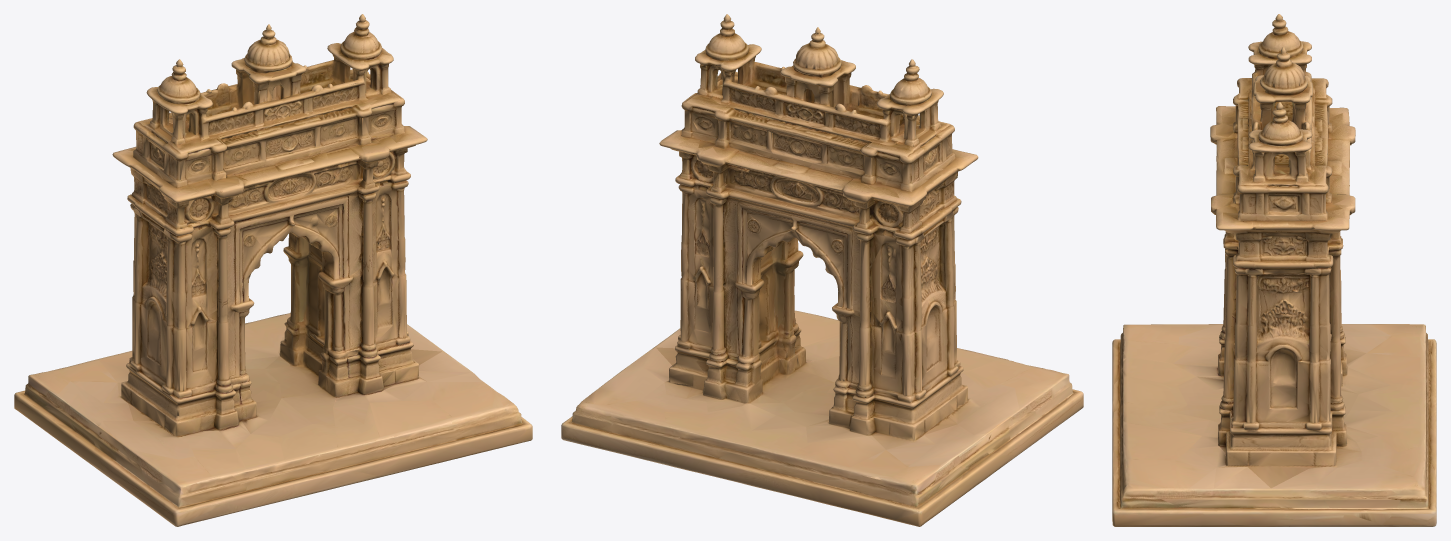
Rendered from Ornate_Sandstone_Gate.glb.
3 views of the same model, side by side, from view 1: azimuth 30°, elevation 25°; view 2: azimuth 150°, elevation 25°; view 3: azimuth 270°, elevation 25° (orthographic).
Visible parts, largest first — view 1: Ornate_Sandstone_Gate; view 2: Ornate_Sandstone_Gate; view 3: Ornate_Sandstone_Gate.
Boxes of the visible parts, left/top/right/bottom form: Ornate_Sandstone_Gate: left=14, top=14, right=532, bottom=526; Ornate_Sandstone_Gate: left=561, top=14, right=1083, bottom=526; Ornate_Sandstone_Gate: left=1112, top=14, right=1436, bottom=526.
Bounding box in the file's own units: 1.79 × 1.9 × 1.41.
Materials: 1 (1 with a texture image).
